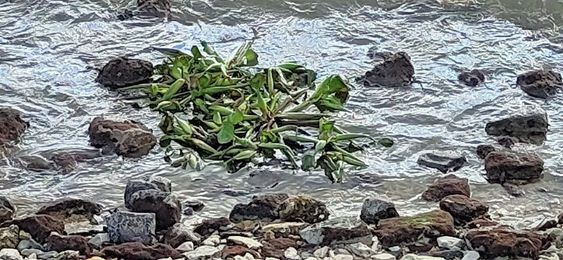water_hyacinth: (158, 39, 356, 173)
